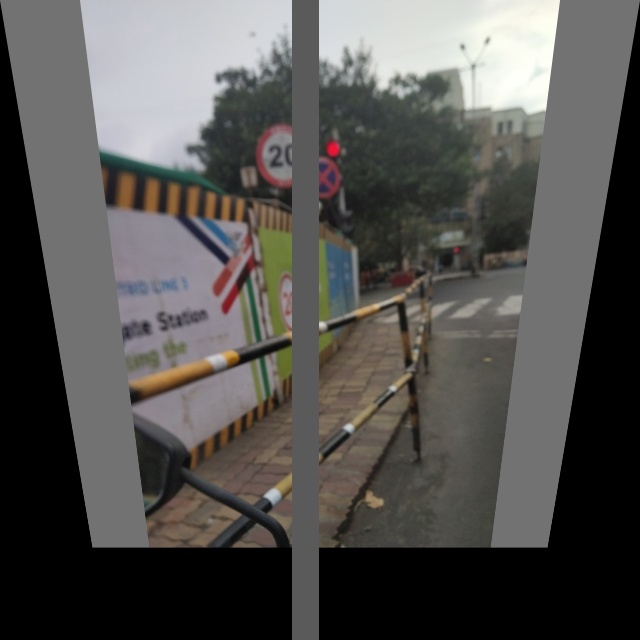Speed_Limit_20: (252, 124, 310, 184)
